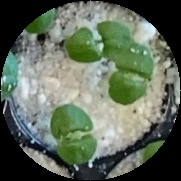Basil: (48, 106, 101, 161), (68, 21, 129, 62), (114, 47, 153, 107)
